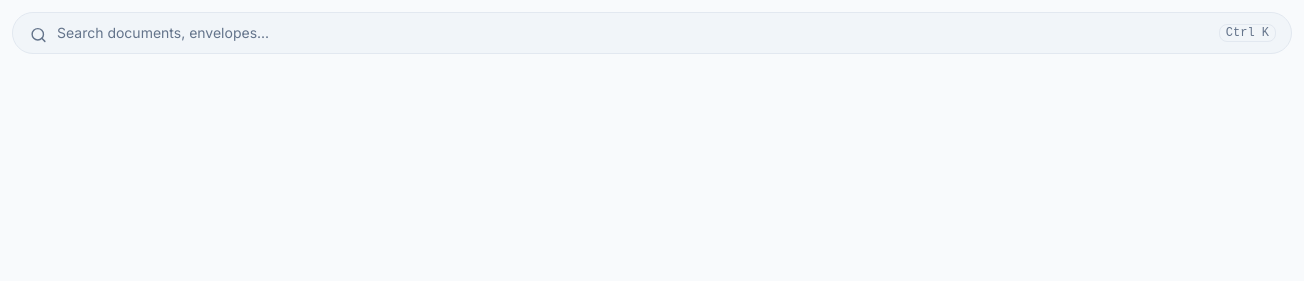
Test: GlobalSearch › shows envelopes and documents, and a link to see all envelopes
The width and height of the screenshot is (1304, 281).
Type "lease" into the dropdown.
click(652, 33); type("lease")  # box [12,12,1292,54]
Wait 300 ms
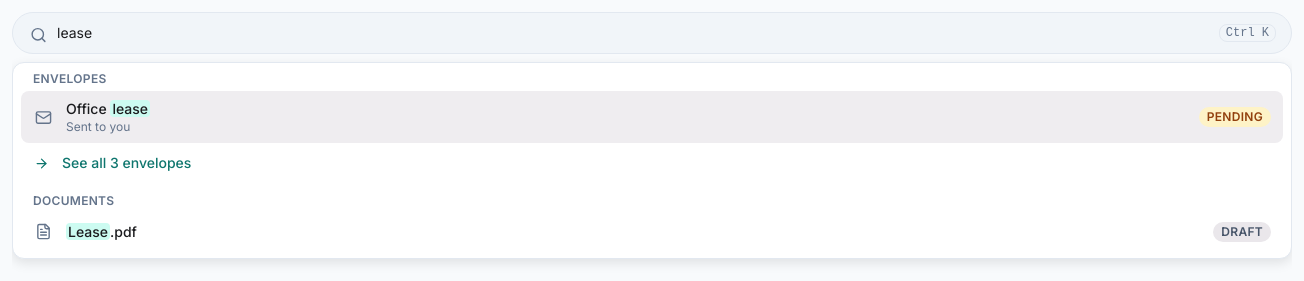
Expected: the text "Sent to you" is shown, [66,119,130,134]
Expected: the list "envelopes" is shown, [21,91,1283,181]
Expected: the list named "Documents" is shown, [35,222,1271,242]
